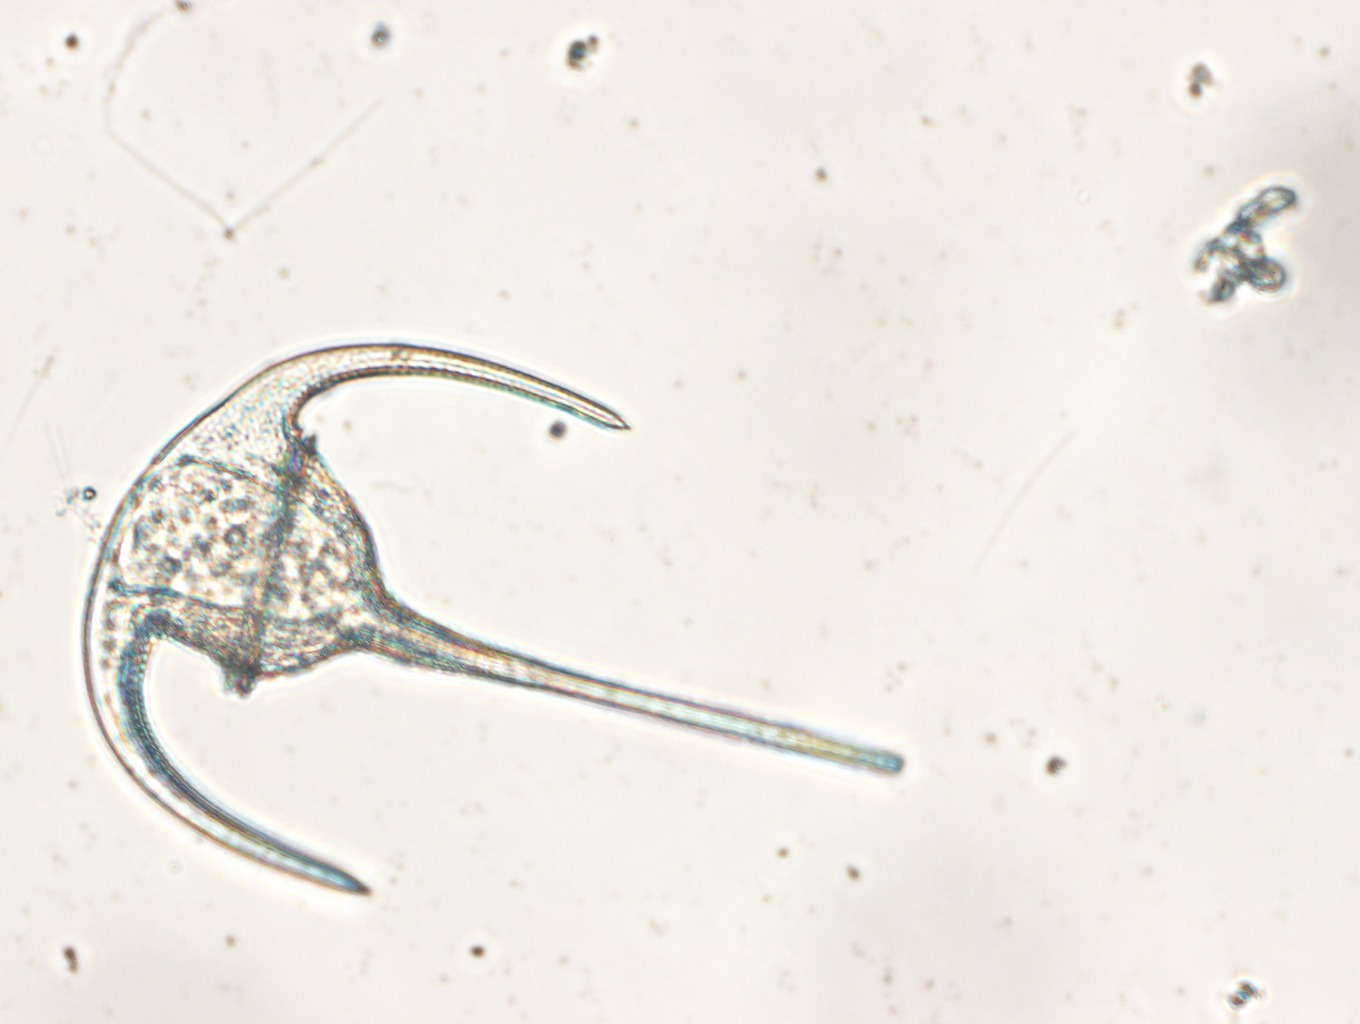ceratium tripos: (83, 341, 906, 899)
